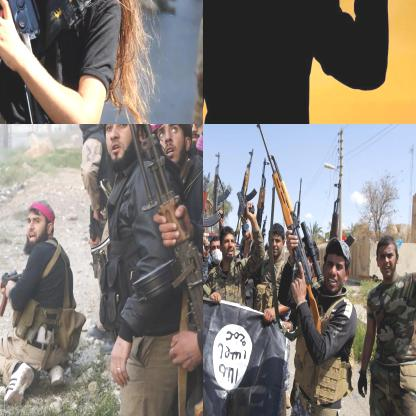rifle: (116, 124, 202, 415), (250, 124, 324, 337), (0, 0, 51, 123), (234, 145, 258, 240), (327, 180, 355, 249), (210, 149, 230, 227), (0, 266, 27, 321), (254, 157, 271, 243), (203, 168, 221, 248)
